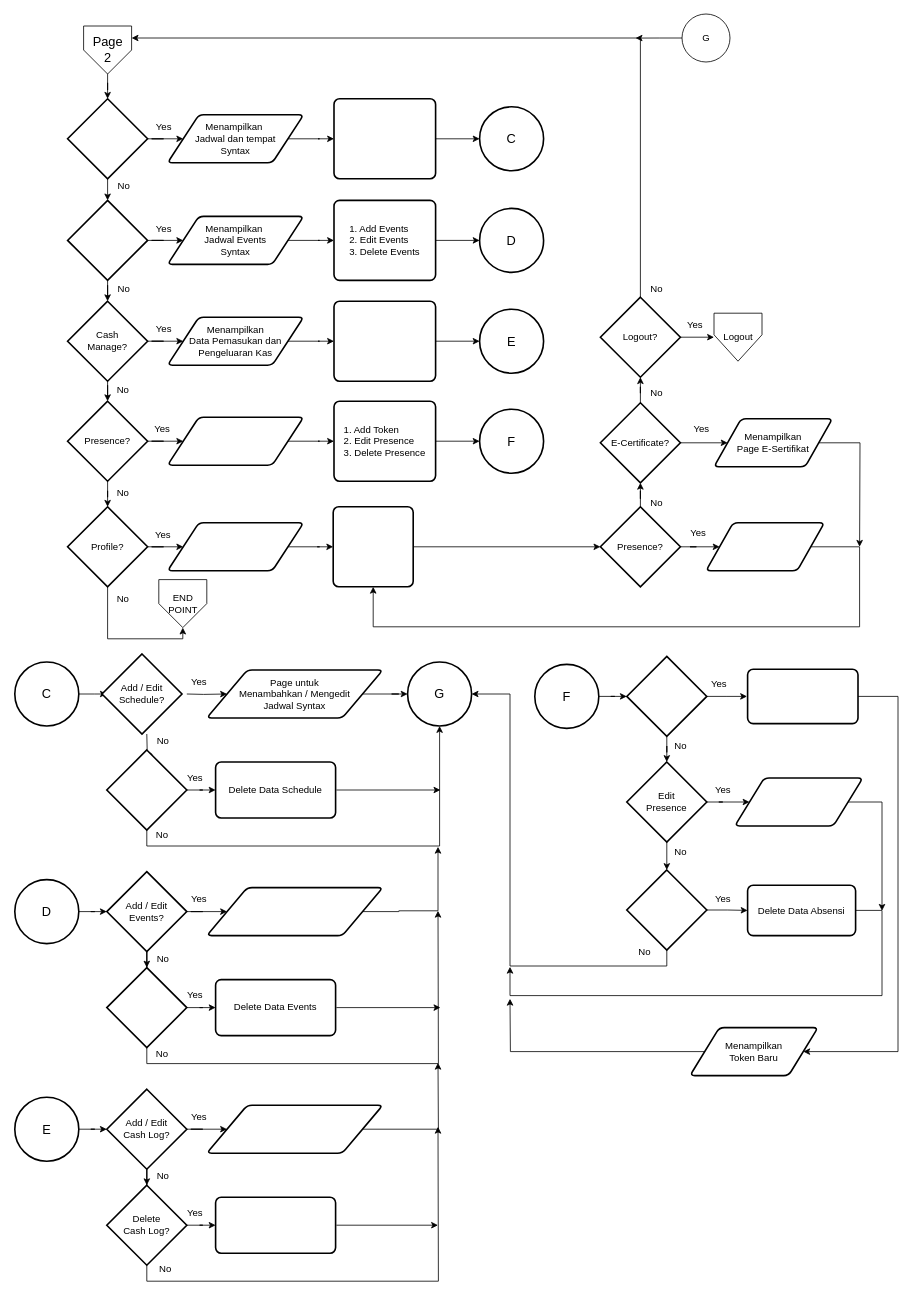
Some shapes in this 918 by 1302 pixel diagram are drawn without their labels. The centre of each missing label's shape, as x and y in pixels:
"1. Add Cash Log 2. Edit Cash Log 3. Delete Cash Log" goes at [384,341].
"1. Add Schedule 2. Edit Schedule 3. Delete Schedule" goes at [384,138].
"1. Presence 2. E-Certificate 3. Logout" goes at [373,546].
"Add Token" goes at [666,696].
"Delete Data Cash Log" goes at [275,1225].
"Delete Events?" goes at [146,1007].
"Delete Pesence" goes at [666,909].
"Delete Schedule?" goes at [146,789].
"Events?" goes at [107,240].
"Membuat Token Login Baru" goes at [802,696].
"Menampilkan Data Absensi Syntax" goes at [235,441].
"Menampilkan Data Profile Akun" goes at [235,546].
"Menampilkan Page Absensi" goes at [765,546].
"Page untuk Menambahkan / Mengedit Aktivitas Kas" goes at [294,1129].
"Page untuk Menambahkan / Mengedit Jadwal Events" goes at [294,911].
"Page untuk Mengedit Absensi" goes at [798,801].
"Schedule?" goes at [107,138].
